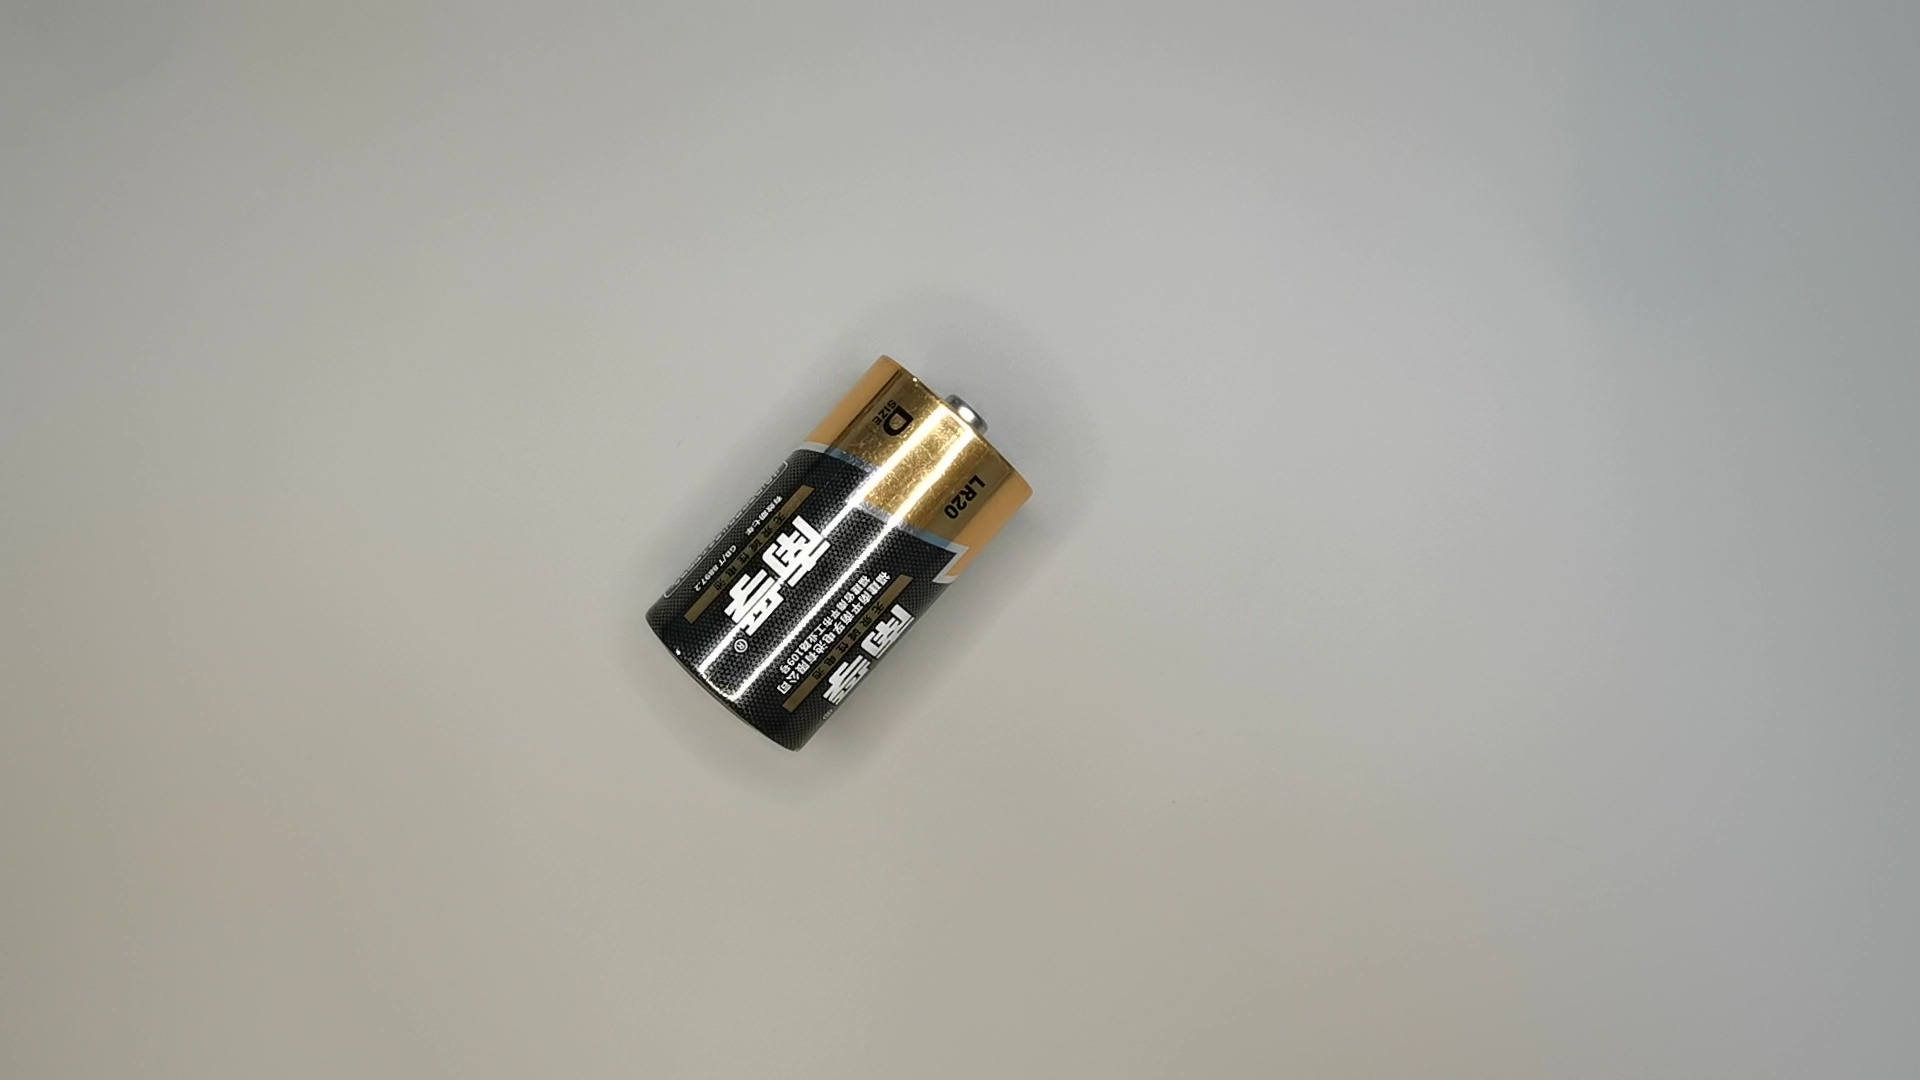battery: (634, 349, 1044, 765)
